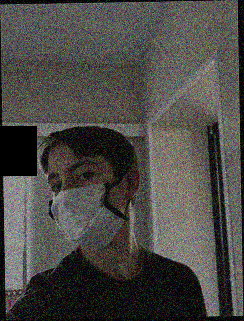with_mask: (47, 157, 127, 251)
